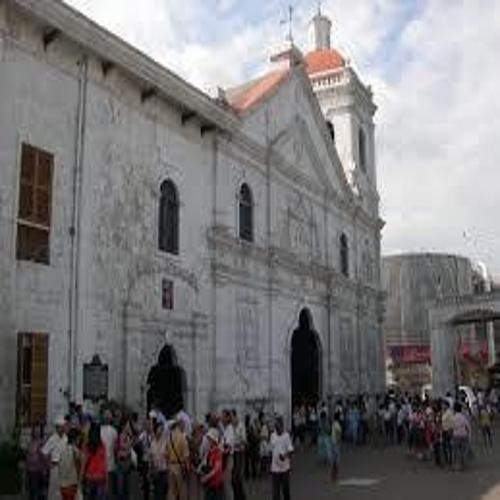Sto. Nino Basilica Church: (211, 5, 394, 432)
